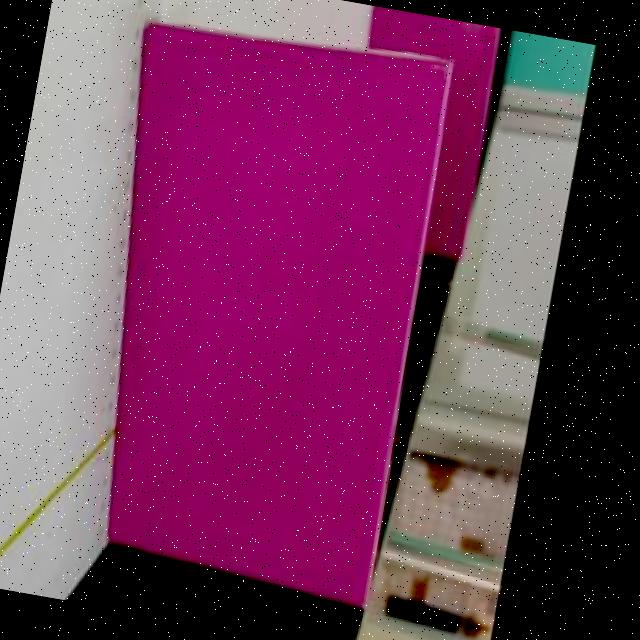xparking: (58, 16, 458, 592), (366, 4, 500, 59)
